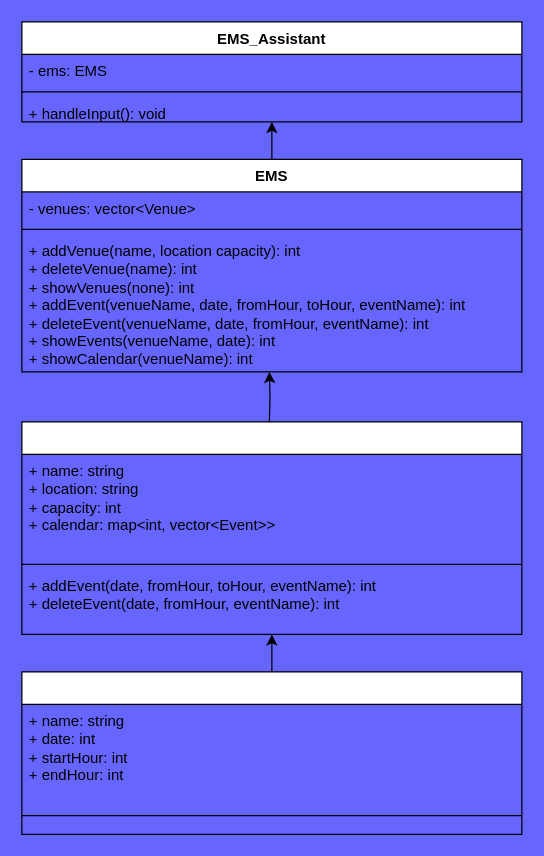
Some shapes in this 544 by 856 pixel diagram are drawn without their labels. Here are the shapes that lost their labels. From the top down, the box of each, then its label:
(21, 421, 522, 634): Venue
(21, 671, 522, 834): Event
